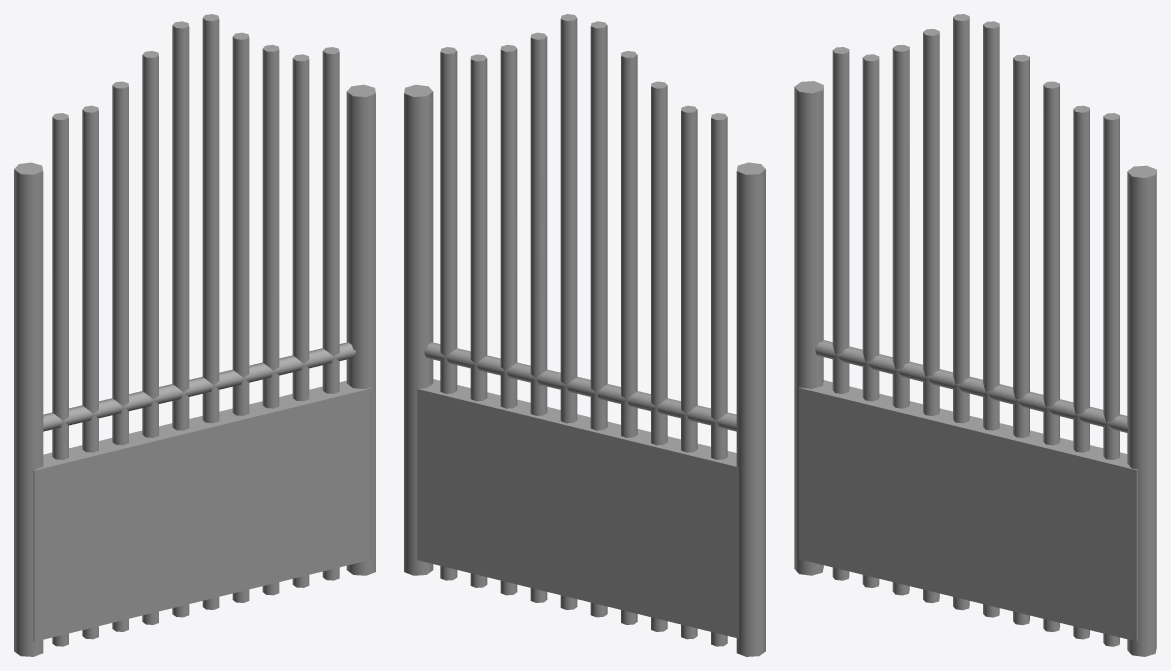
Rendered from door.FBX.
3 renders of one model, left to right at view 1: azimuth 30°, elevation 25°; view 2: azimuth 150°, elevation 25°; view 3: azimuth 330°, elevation 25°, orthographic.
Visible parts, largest first — view 1: Box045, Cylinder002, Cylinder001, Cylinder008, Cylinder007, Cylinder006, Cylinder009, Cylinder005, Cylinder003, Cylinder004, Cylinder010, Cylinder012 (+2 smaller); view 2: Box045, Cylinder002, Cylinder001, Cylinder008, Cylinder007, Cylinder006, Cylinder009, Cylinder005, Cylinder003, Cylinder004, Cylinder010, Cylinder012 (+2 smaller); view 3: Box045, Cylinder001, Cylinder002, Cylinder007, Cylinder008, Cylinder009, Cylinder010, Cylinder006, Cylinder011, Cylinder012, Cylinder005, Cylinder003 (+2 smaller).
Boxes of the visible parts, left/top/right/bottom form: Box045: left=33, top=380, right=371, bottom=641; Cylinder002: left=14, top=162, right=43, bottom=656; Cylinder001: left=346, top=84, right=375, bottom=575; Cylinder008: left=172, top=21, right=189, bottom=617; Cylinder007: left=202, top=14, right=219, bottom=609; Cylinder006: left=232, top=32, right=249, bottom=602; Cylinder009: left=142, top=51, right=158, bottom=624; Cylinder005: left=262, top=44, right=279, bottom=595; Cylinder003: left=322, top=47, right=339, bottom=580; Cylinder004: left=292, top=54, right=309, bottom=587; Cylinder010: left=112, top=81, right=128, bottom=631; Cylinder012: left=52, top=113, right=68, bottom=646; Box045: left=417, top=379, right=738, bottom=638; Cylinder002: left=736, top=162, right=765, bottom=656; Cylinder001: left=404, top=84, right=433, bottom=575; Cylinder008: left=590, top=21, right=607, bottom=617; Cylinder007: left=560, top=14, right=577, bottom=609; Cylinder006: left=530, top=32, right=547, bottom=602; Cylinder009: left=621, top=51, right=637, bottom=624; Cylinder005: left=500, top=44, right=517, bottom=595; Cylinder003: left=440, top=47, right=457, bottom=580; Cylinder004: left=470, top=54, right=487, bottom=587; Cylinder010: left=651, top=81, right=667, bottom=631; Cylinder012: left=711, top=113, right=727, bottom=646; Box045: left=799, top=380, right=1137, bottom=641; Cylinder001: left=1127, top=165, right=1156, bottom=656; Cylinder002: left=794, top=81, right=823, bottom=575; Cylinder007: left=983, top=21, right=999, bottom=617; Cylinder008: left=953, top=14, right=969, bottom=610; Cylinder009: left=923, top=29, right=939, bottom=603; Cylinder010: left=892, top=44, right=909, bottom=595; Cylinder006: left=1013, top=54, right=1029, bottom=625; Cylinder011: left=862, top=54, right=879, bottom=587; Cylinder012: left=832, top=47, right=849, bottom=580; Cylinder005: left=1043, top=81, right=1059, bottom=631; Cylinder003: left=1103, top=113, right=1119, bottom=646.
Size of the model in its own units: 35.2 by 55.41 by 2.61.
